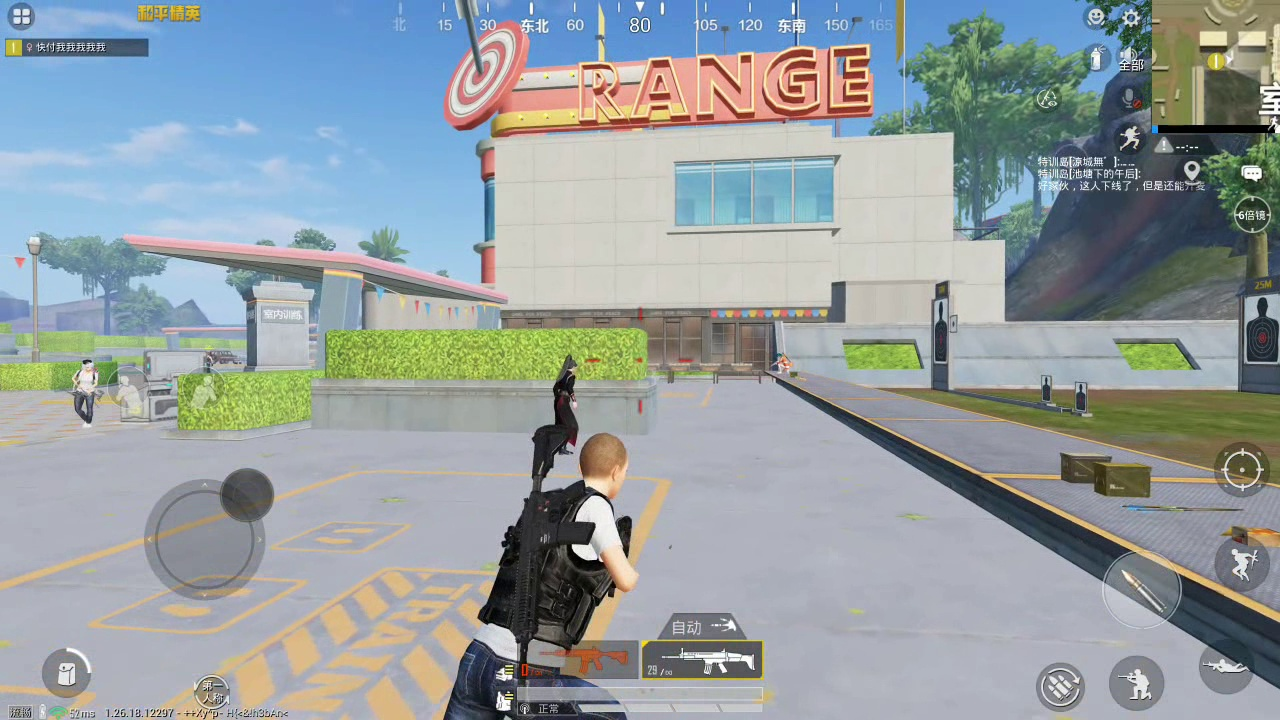enemy: (550, 355, 578, 453), (72, 358, 97, 429), (773, 348, 795, 375)
